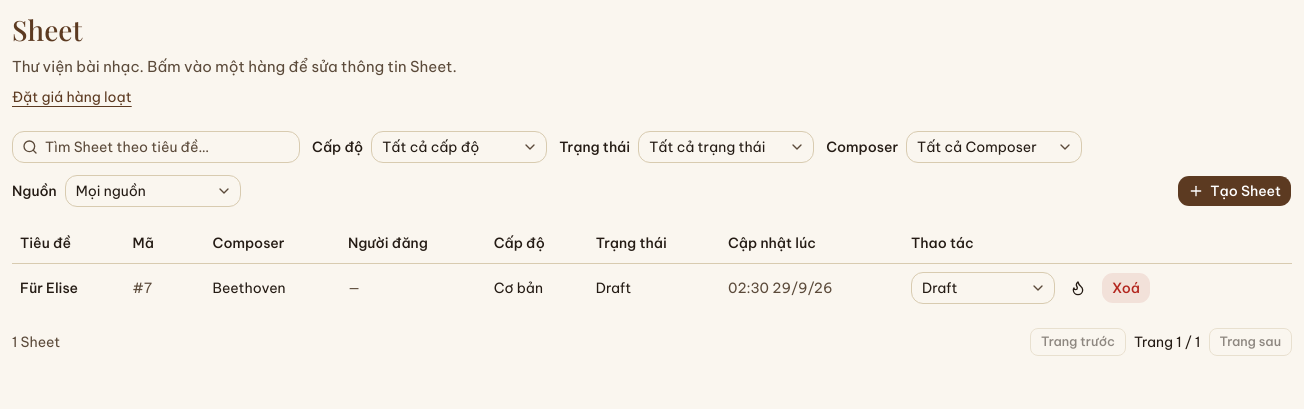
Test case: Trang /sheets — bảng › refetches the active status filter after a status change
The image size is (1304, 409).
expect the row "Für Elise" is shown: met, box top-left (12, 263), bottom-right (1292, 312)
Click the dropdown labelled "trạng thái": x=726, y=147 top-left (638, 131), bottom-right (814, 163)
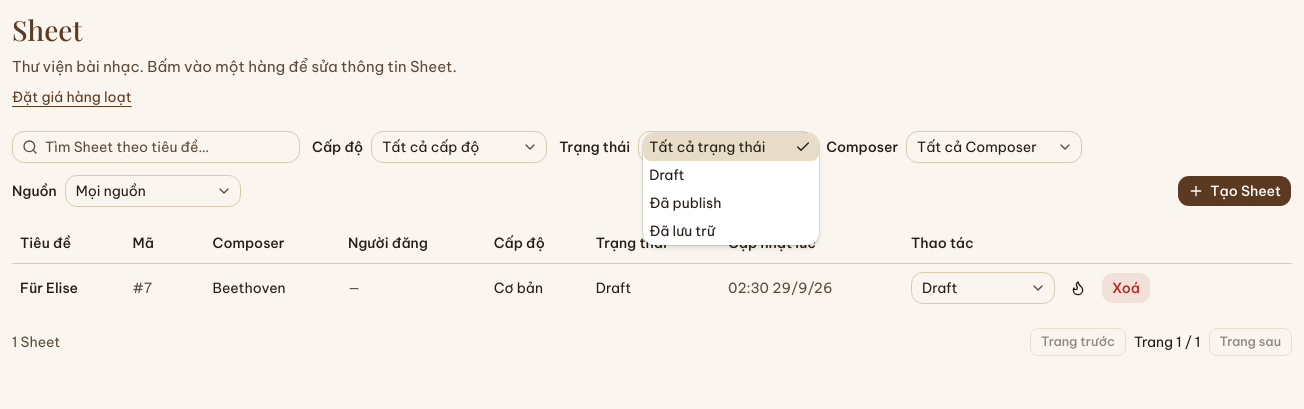
Click the option "Draft": x=667, y=175 top-left (649, 166), bottom-right (685, 184)
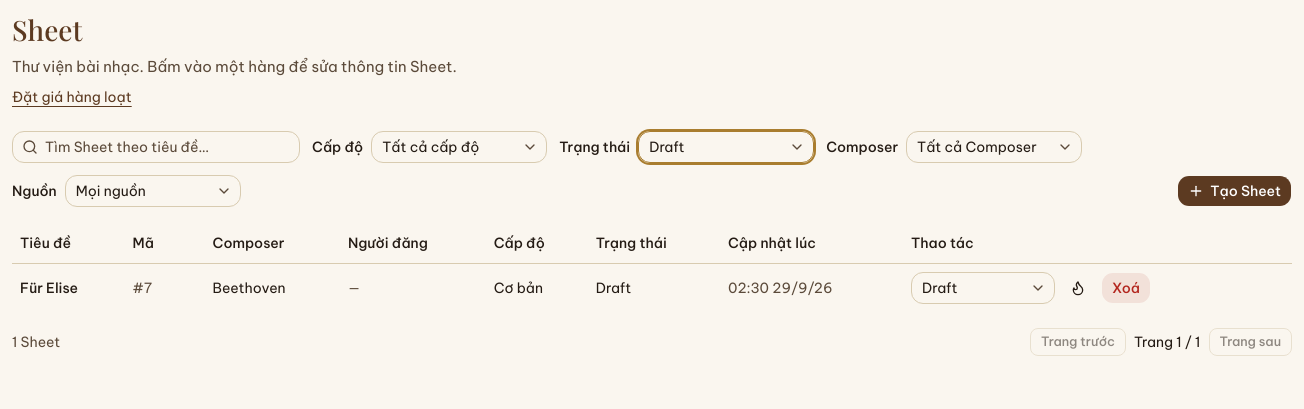
Click the dropdown labelled "Draft ▼" in the row of "Für Elise": x=983, y=288 top-left (911, 272), bottom-right (1055, 304)
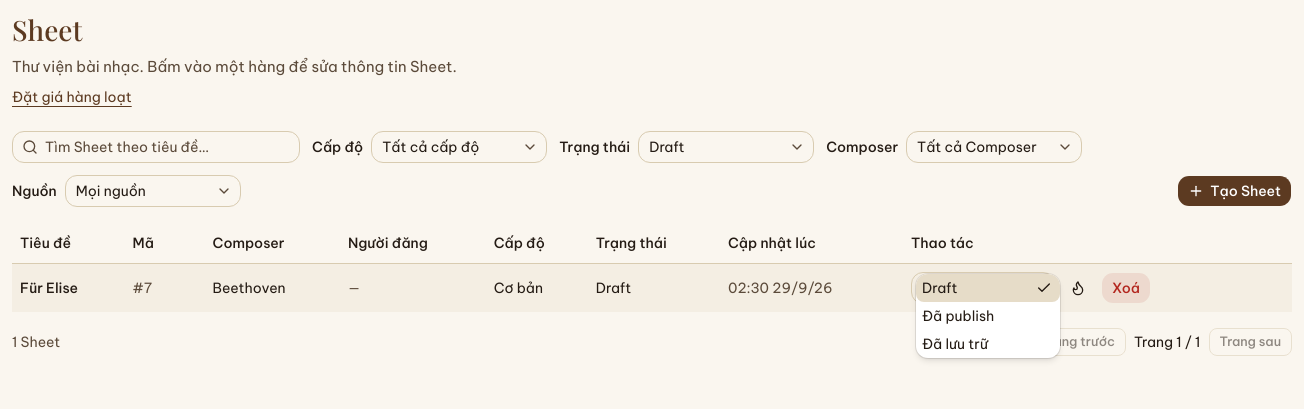
Click the option "Đã publish": x=958, y=316 top-left (922, 306), bottom-right (994, 324)
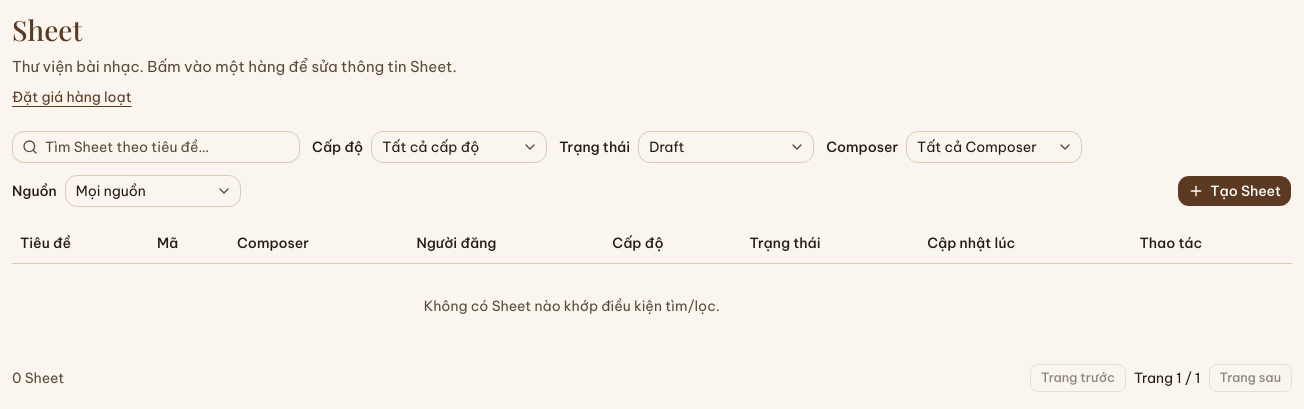
expect the text "Không có Sheet nào khớp điều kiện tìm/lọc." is shown: met, box top-left (12, 263), bottom-right (1132, 348)
